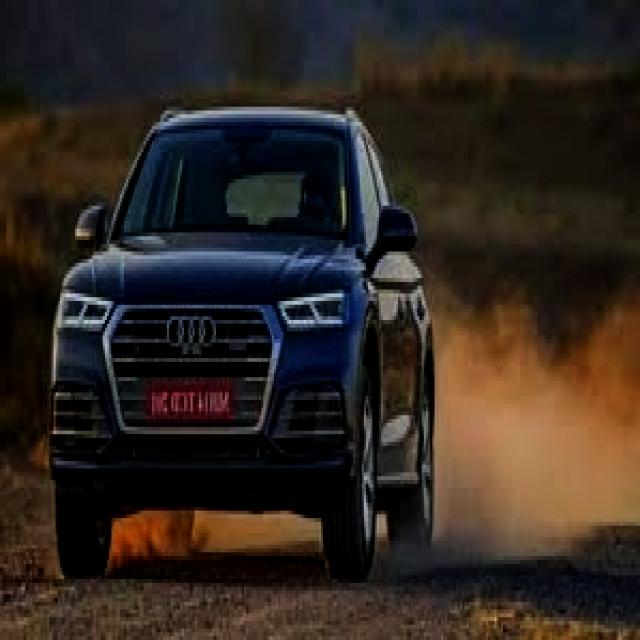black: (19, 71, 436, 582)
